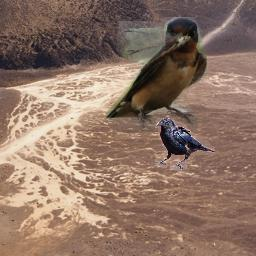Crow: (155, 118, 215, 170)
Swallow: (105, 17, 207, 133)
